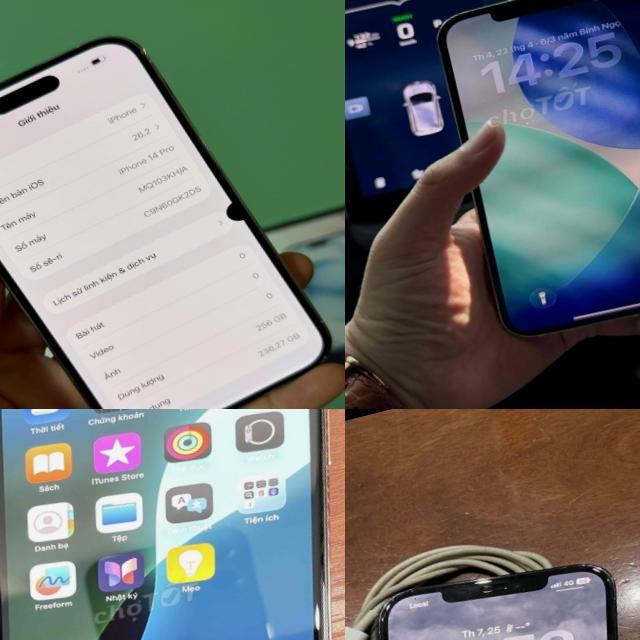gen_12_13: (419, 0, 640, 355), (345, 539, 640, 640)
gen_14: (0, 0, 345, 409)
gen_x_xs: (0, 409, 330, 640)
